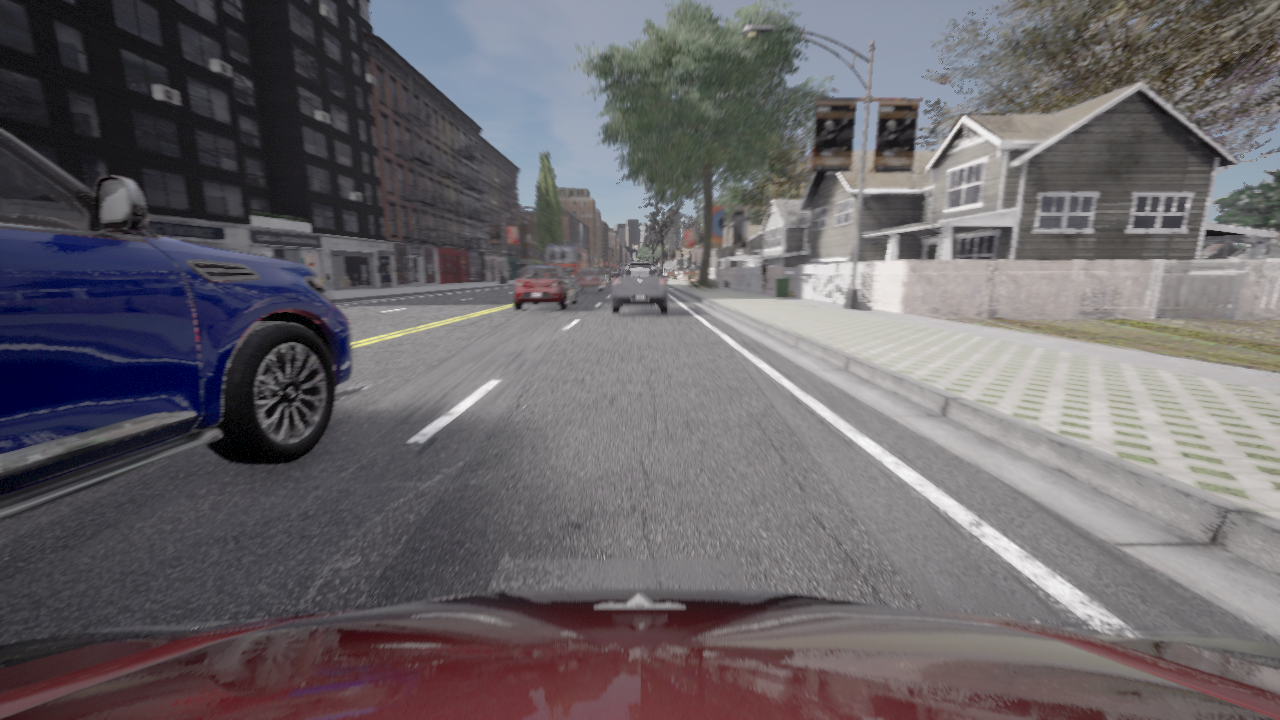cyclist: (0, 588, 1279, 719), (611, 263, 668, 314), (513, 265, 578, 309), (541, 242, 587, 281), (576, 268, 604, 291), (608, 271, 618, 282), (629, 261, 651, 263)
pedestrian: (761, 259, 767, 293)
